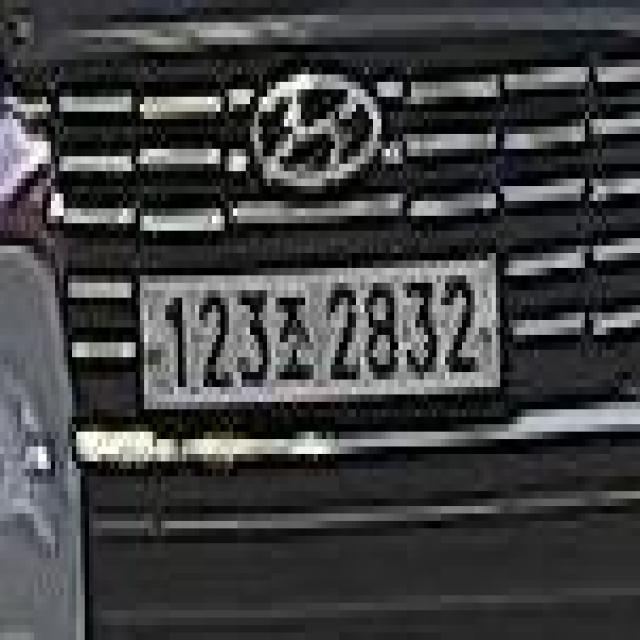illegal_plate: (132, 253, 508, 433)
